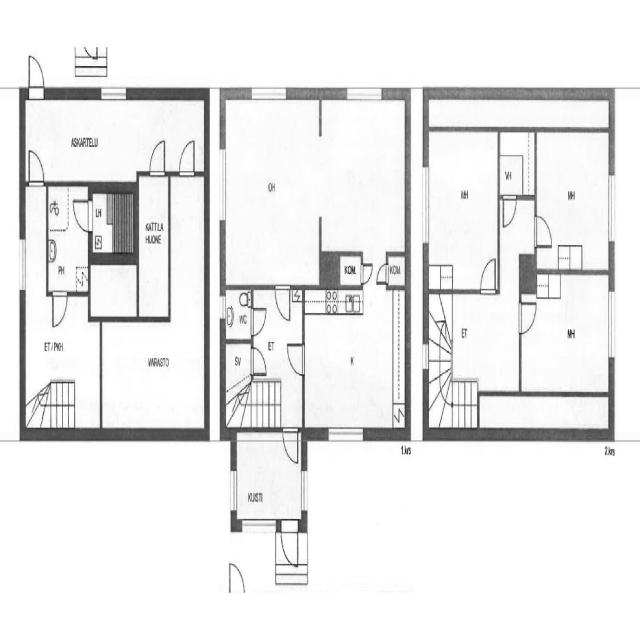door: (178, 138, 200, 188), (22, 52, 42, 99), (68, 199, 95, 232), (51, 287, 69, 335), (284, 338, 308, 373), (518, 298, 540, 336), (273, 291, 292, 330), (530, 207, 550, 244), (282, 426, 300, 466), (480, 250, 495, 298), (148, 144, 165, 179), (30, 144, 44, 184), (372, 256, 389, 286), (250, 304, 268, 332), (504, 194, 515, 232), (250, 348, 266, 374), (359, 262, 376, 283)
window: (321, 420, 367, 444), (606, 174, 622, 243), (606, 280, 619, 360), (421, 159, 430, 248), (246, 81, 286, 99), (218, 143, 225, 239), (240, 520, 277, 536), (343, 87, 388, 100), (18, 231, 26, 299), (98, 81, 122, 100), (230, 463, 238, 518), (299, 464, 308, 512), (218, 292, 227, 316), (423, 342, 428, 367)
zone: (224, 92, 323, 284), (302, 286, 407, 432), (321, 99, 406, 260), (98, 320, 209, 440), (428, 125, 496, 296), (519, 275, 615, 393), (533, 132, 610, 267), (134, 168, 171, 330), (54, 187, 86, 291), (88, 190, 133, 259), (500, 124, 535, 204), (221, 290, 251, 338), (339, 254, 363, 291), (390, 255, 407, 287)
